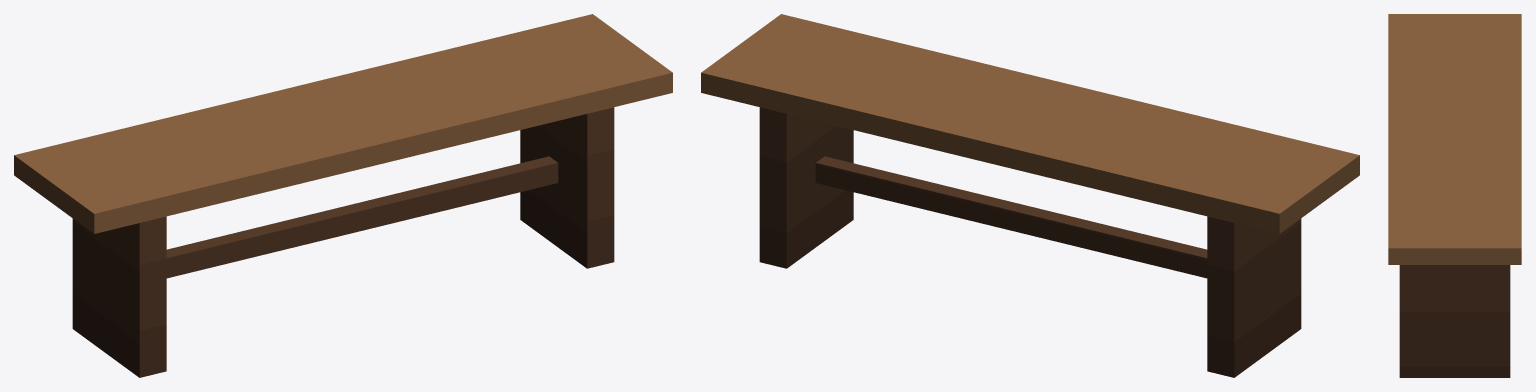
File: bench.glb
3 views of the same model, side by side, from view 1: azimuth 30°, elevation 25°; view 2: azimuth 150°, elevation 25°; view 3: azimuth 270°, elevation 25° (orthographic). The views are drawn at different scales.
Bounding box in the file's own units: 1.5 × 0.45 × 0.36.
Materials: 1 (1 with a texture image).
